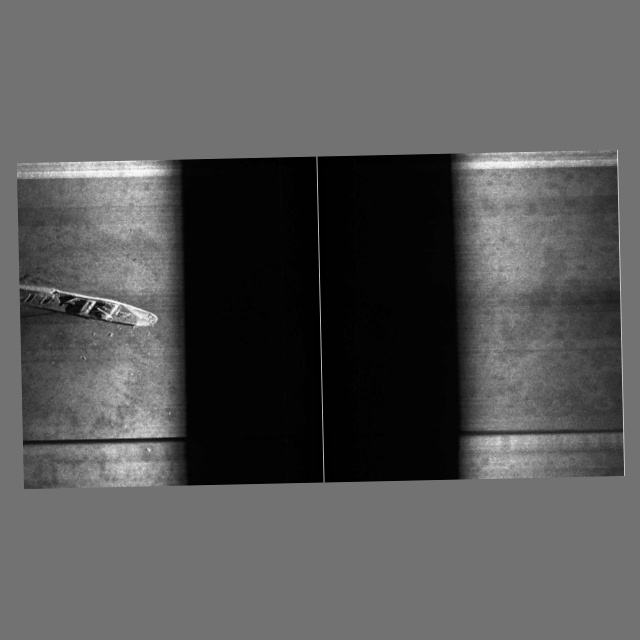Shipwreck: (19, 281, 170, 455)
